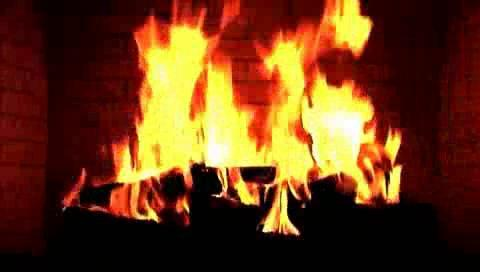fire: (110, 15, 409, 225)
